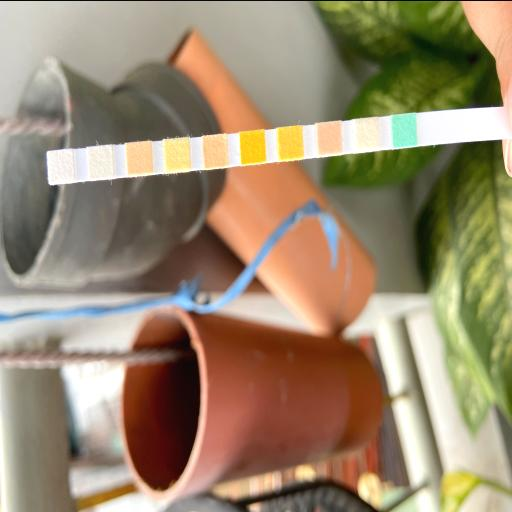Bilirubin: (354, 118, 378, 150)
Blood: (241, 130, 265, 162)
Glucose: (392, 114, 416, 146)
Ketone: (317, 122, 340, 154)
Leukocytes: (50, 150, 74, 182)
Nitrite: (89, 146, 113, 178)
Protein: (166, 138, 190, 170)
SpGravity: (278, 126, 302, 158)
Urobilinogen: (128, 142, 152, 174)
pH: (204, 135, 226, 167)
strip: (47, 106, 495, 184)
